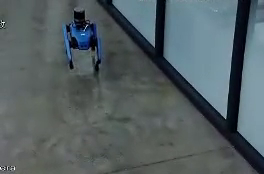robot dog: (58, 5, 107, 81)
